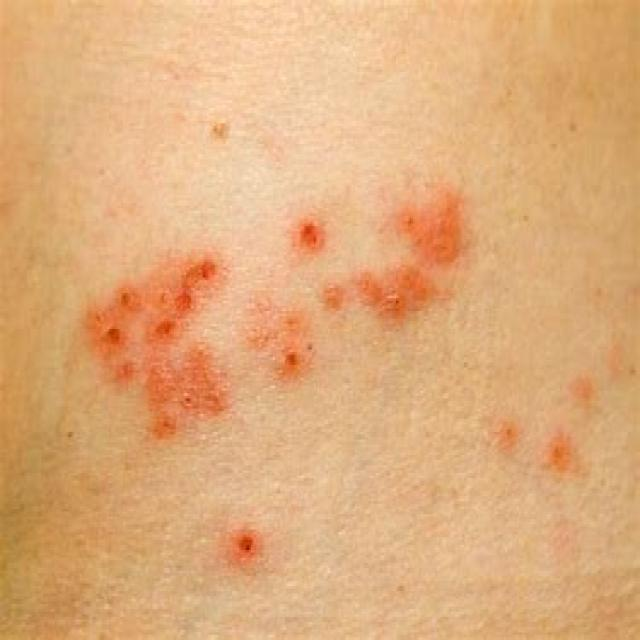Shingles: (262, 194, 463, 384), (88, 255, 226, 447), (494, 378, 592, 473), (228, 526, 260, 566)
